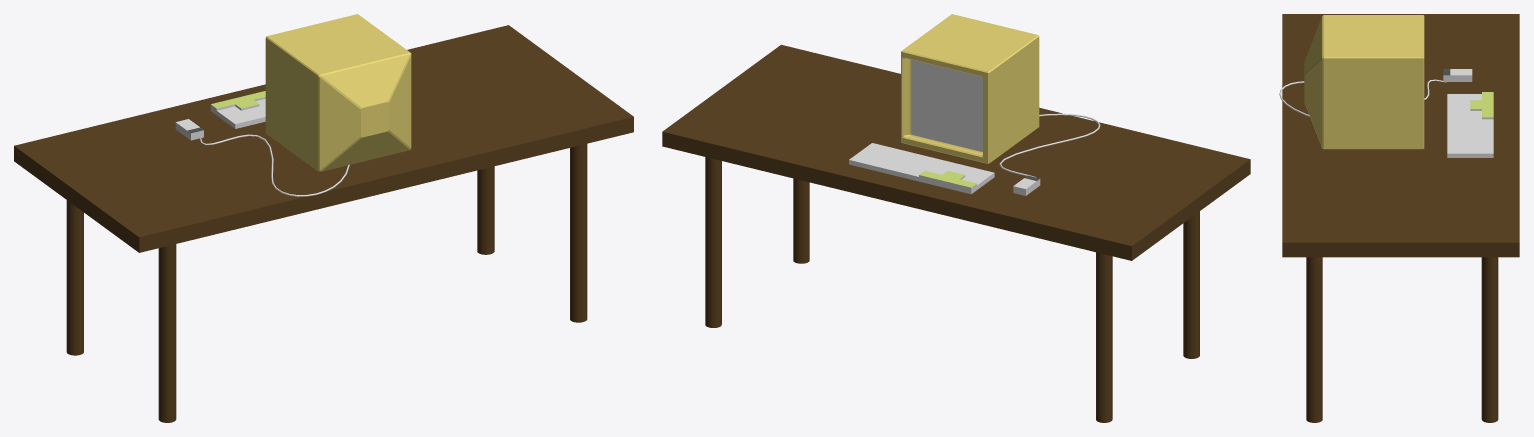
The model's file is table + computer.fbx.
3 views of the same model, side by side, from view 1: azimuth 30°, elevation 25°; view 2: azimuth 150°, elevation 25°; view 3: azimuth 270°, elevation 25° (orthographic). The views are drawn at different scales.
Parts seen in each view (by area): view 1: Cube.001, Cube; view 2: Cube.001, Cube; view 3: Cube.001, Cube.
Boxes of the visible parts, x1,y1,x2,y2 form: Cube.001: (14,25,633,422); Cube: (265,14,411,171); Cube.001: (662,44,1250,422); Cube: (901,14,1039,163); Cube.001: (1282,14,1519,422); Cube: (1304,15,1424,149).
Size of the model in its own units: 640 by 374 by 284.
